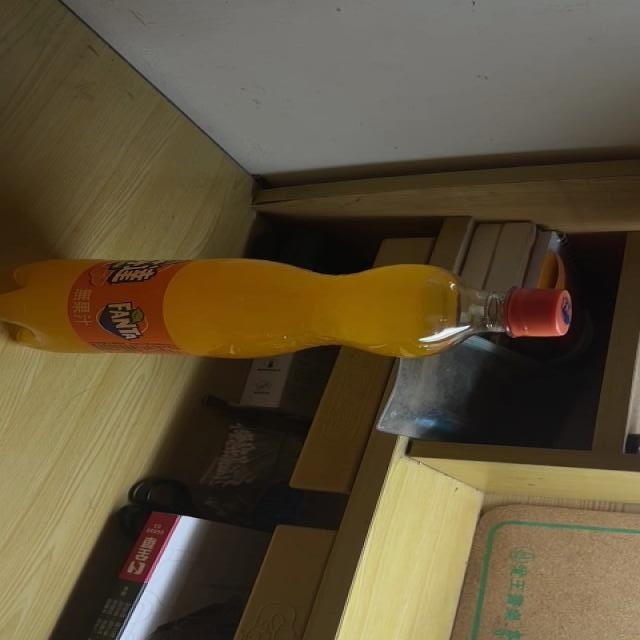Fanta: (0, 257, 570, 358)
